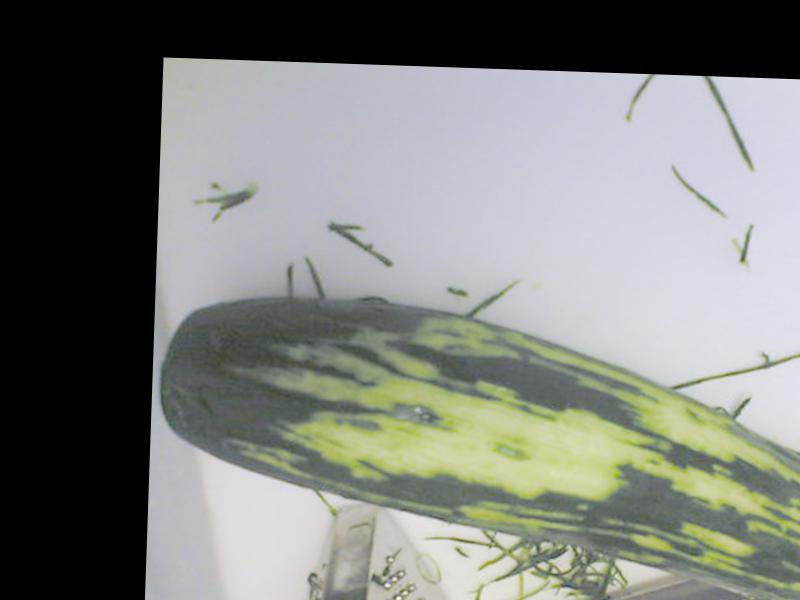Cucumber: (152, 290, 800, 600)
